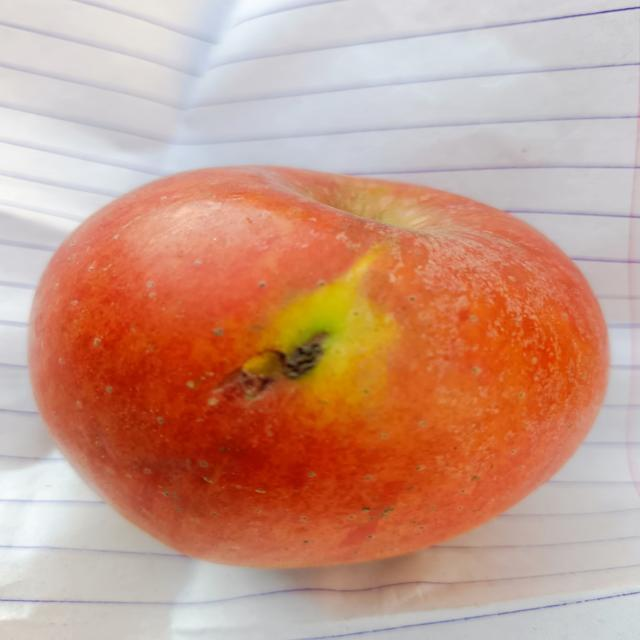Rotten: (40, 153, 583, 572)
